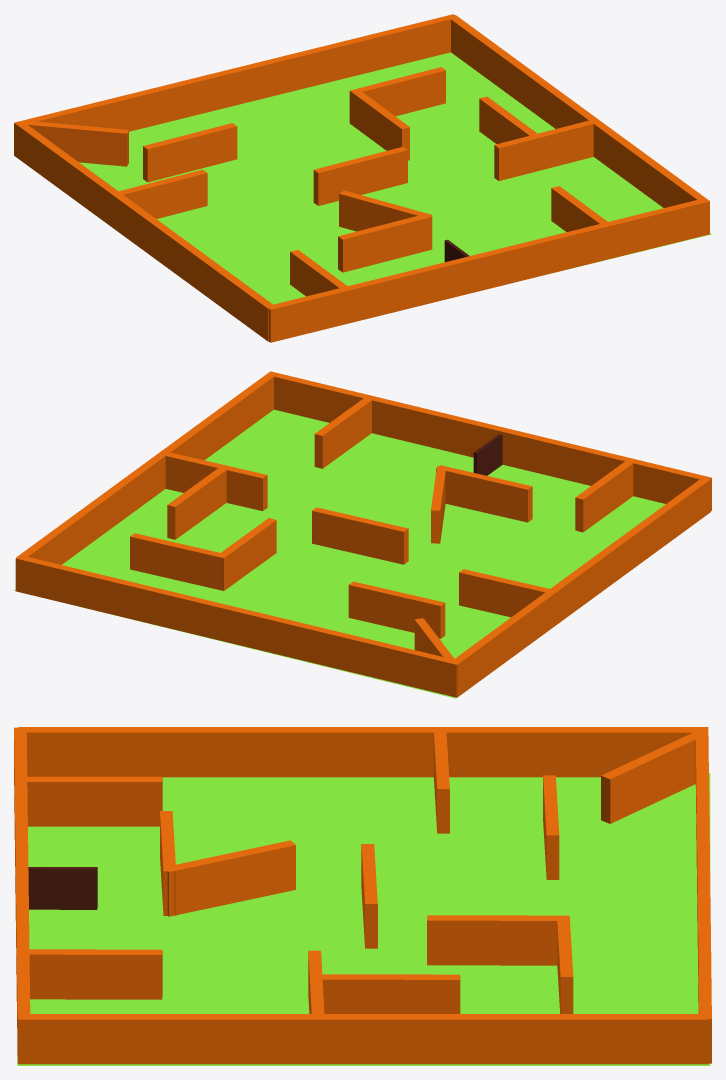
File: square_map.fbx
The picture shows the model from 3 angles, top to bottom: view 1: azimuth 30°, elevation 25°; view 2: azimuth 150°, elevation 25°; view 3: azimuth 270°, elevation 25°; orthographic projection. The views are drawn at different scales.
Visible parts, largest first — view 1: group2_pasted__pCube1; view 2: group2_pasted__pCube1; view 3: group2_pasted__pCube1.
Boxes of the visible parts, bbox=[...] form: group2_pasted__pCube1: bbox=[14, 14, 711, 342]; group2_pasted__pCube1: bbox=[14, 371, 711, 698]; group2_pasted__pCube1: bbox=[14, 727, 711, 1065].
Bounding box in the file's own units: 14.09 × 1.01 × 14.16.
